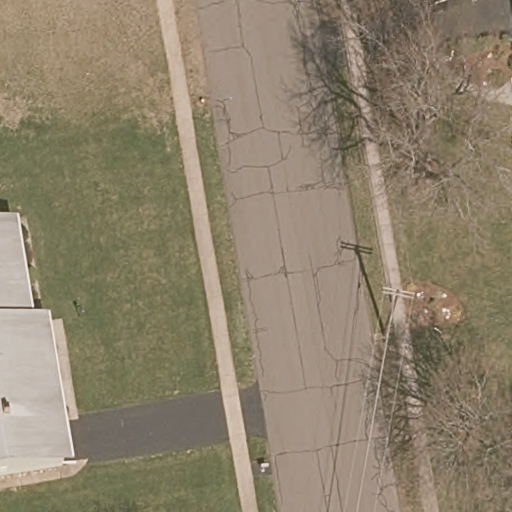DT: (380, 285, 415, 336)
